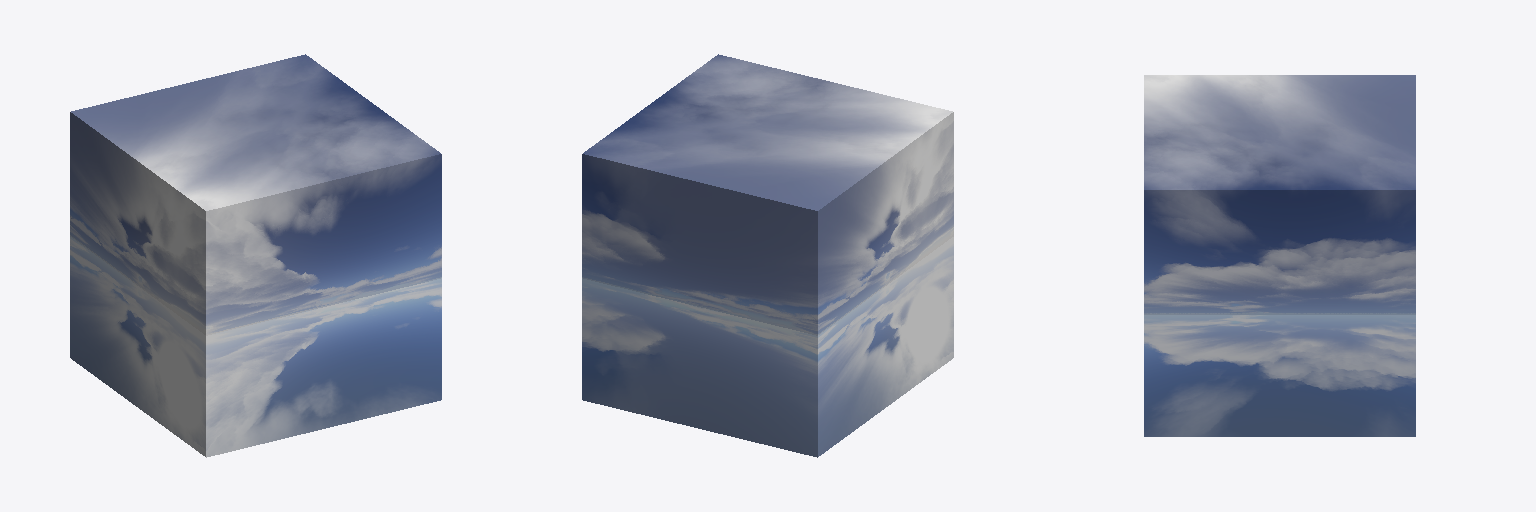
The picture shows the model from 3 angles: view 1: azimuth 30°, elevation 25°; view 2: azimuth 150°, elevation 25°; view 3: azimuth 270°, elevation 25°; orthographic projection.
Visible parts, largest first — view 1: front, left, top; view 2: back, left, top; view 3: right, top.
Boxes of the visible parts, x1,y1,x2,y2 form: front: [206, 154, 441, 457]; left: [70, 112, 205, 456]; top: [71, 54, 440, 210]; back: [582, 154, 817, 457]; left: [818, 112, 953, 456]; top: [583, 54, 952, 210]; right: [1144, 190, 1415, 436]; top: [1144, 75, 1415, 189].
Size of the model in its own units: 1 by 1 by 1.
Materials: 6 (6 with a texture image).